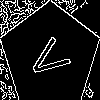V: (25, 30, 79, 85)
